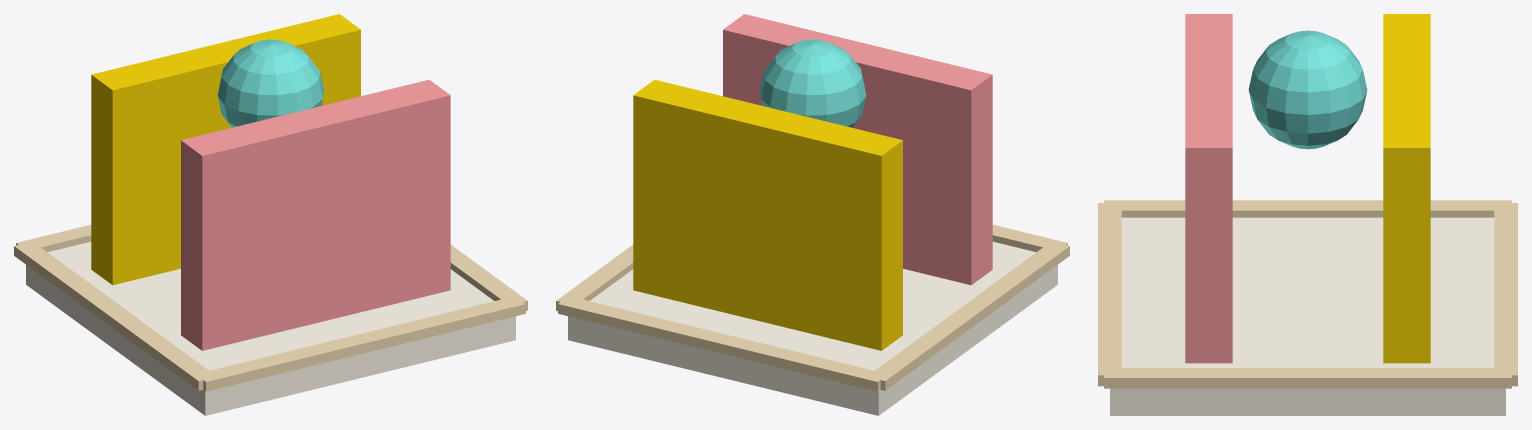
The model's file is city.gacha_gate.glb.
3 renders of one model, left to right at view 1: azimuth 30°, elevation 25°; view 2: azimuth 150°, elevation 25°; view 3: azimuth 270°, elevation 25°, orthographic. The views are drawn at different scales.
Visible parts, largest first — view 1: city.gacha_gate; view 2: city.gacha_gate; view 3: city.gacha_gate.
Part boxes in pixels (bbox=[...]): city.gacha_gate: bbox=[14, 14, 527, 415]; city.gacha_gate: bbox=[556, 14, 1069, 415]; city.gacha_gate: bbox=[1098, 14, 1517, 415].
Size of the model in its own units: 2.12 by 1.65 by 2.12.
